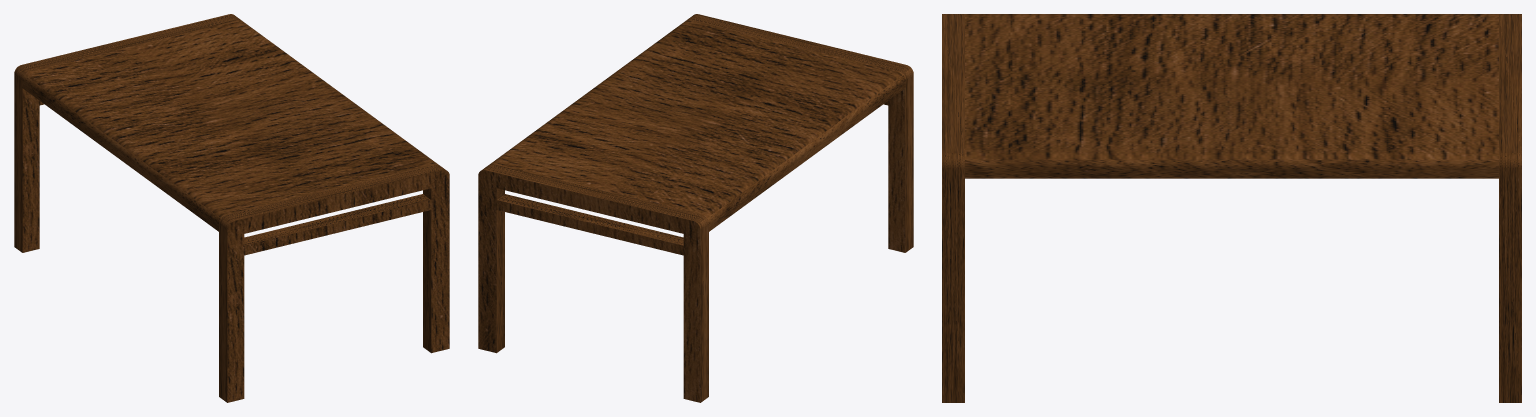
The model's file is KAGU-007-2.fbx.
The picture shows the model from 3 angles, left to right: view 1: azimuth 30°, elevation 25°; view 2: azimuth 150°, elevation 25°; view 3: azimuth 270°, elevation 25°; orthographic projection. The views are drawn at different scales.
Parts seen in each view (by area): view 1: 天板, 立方体, 立方体.001; view 2: 天板, 立方体.001, 立方体; view 3: 天板, 立方体, 立方体.001.
Boxes of the visible parts, bbox=[...] form: 天板: bbox=[22, 20, 437, 231]; 立方体: bbox=[219, 164, 449, 402]; 立方体.001: bbox=[14, 14, 241, 252]; 天板: bbox=[490, 20, 905, 231]; 立方体.001: bbox=[478, 164, 708, 402]; 立方体: bbox=[686, 14, 913, 252]; 天板: bbox=[964, 14, 1498, 178]; 立方体: bbox=[942, 14, 964, 402]; 立方体.001: bbox=[1499, 14, 1521, 402].
Size of the model in its own units: 3065 by 2372 by 5087.
2 materials, 2 textured.
